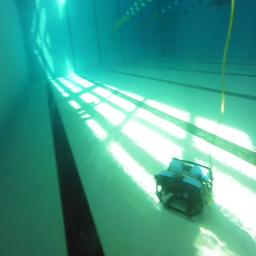Side: (152, 156, 214, 221)
